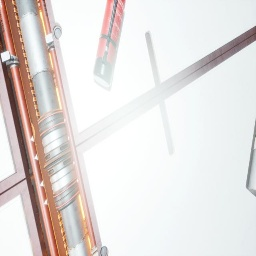0: (248, 132, 256, 195)
FireExtinguisher ]: (92, 0, 126, 88)
